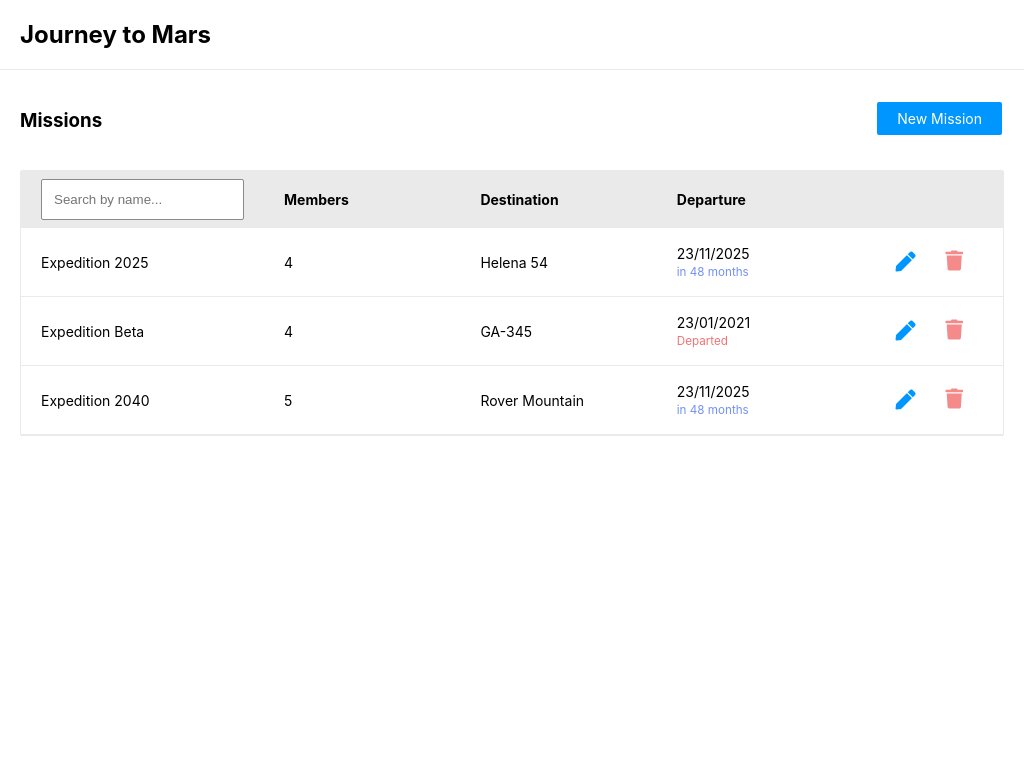
Test case: Missions › navigate to a new mission
The image size is (1024, 768).
Click the link with test id "missions-new". click: (940, 119)
box: [877,102,1002,135]
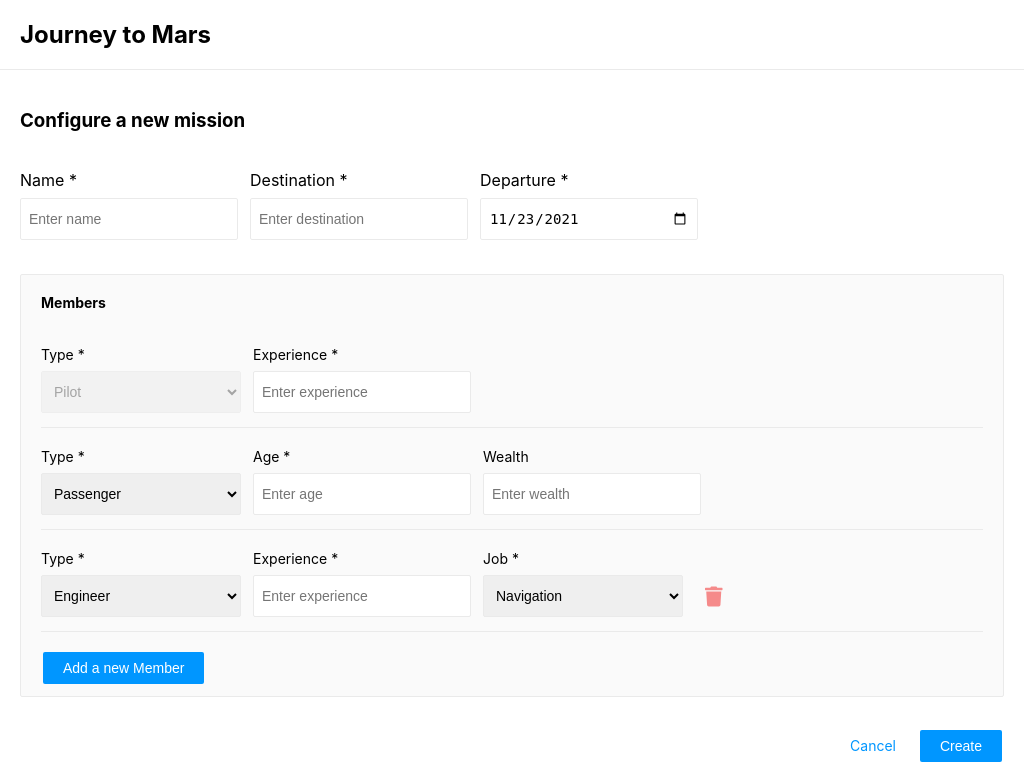
Expected: the heading "Configure a new mission" is shown, [20,108,245,132]
